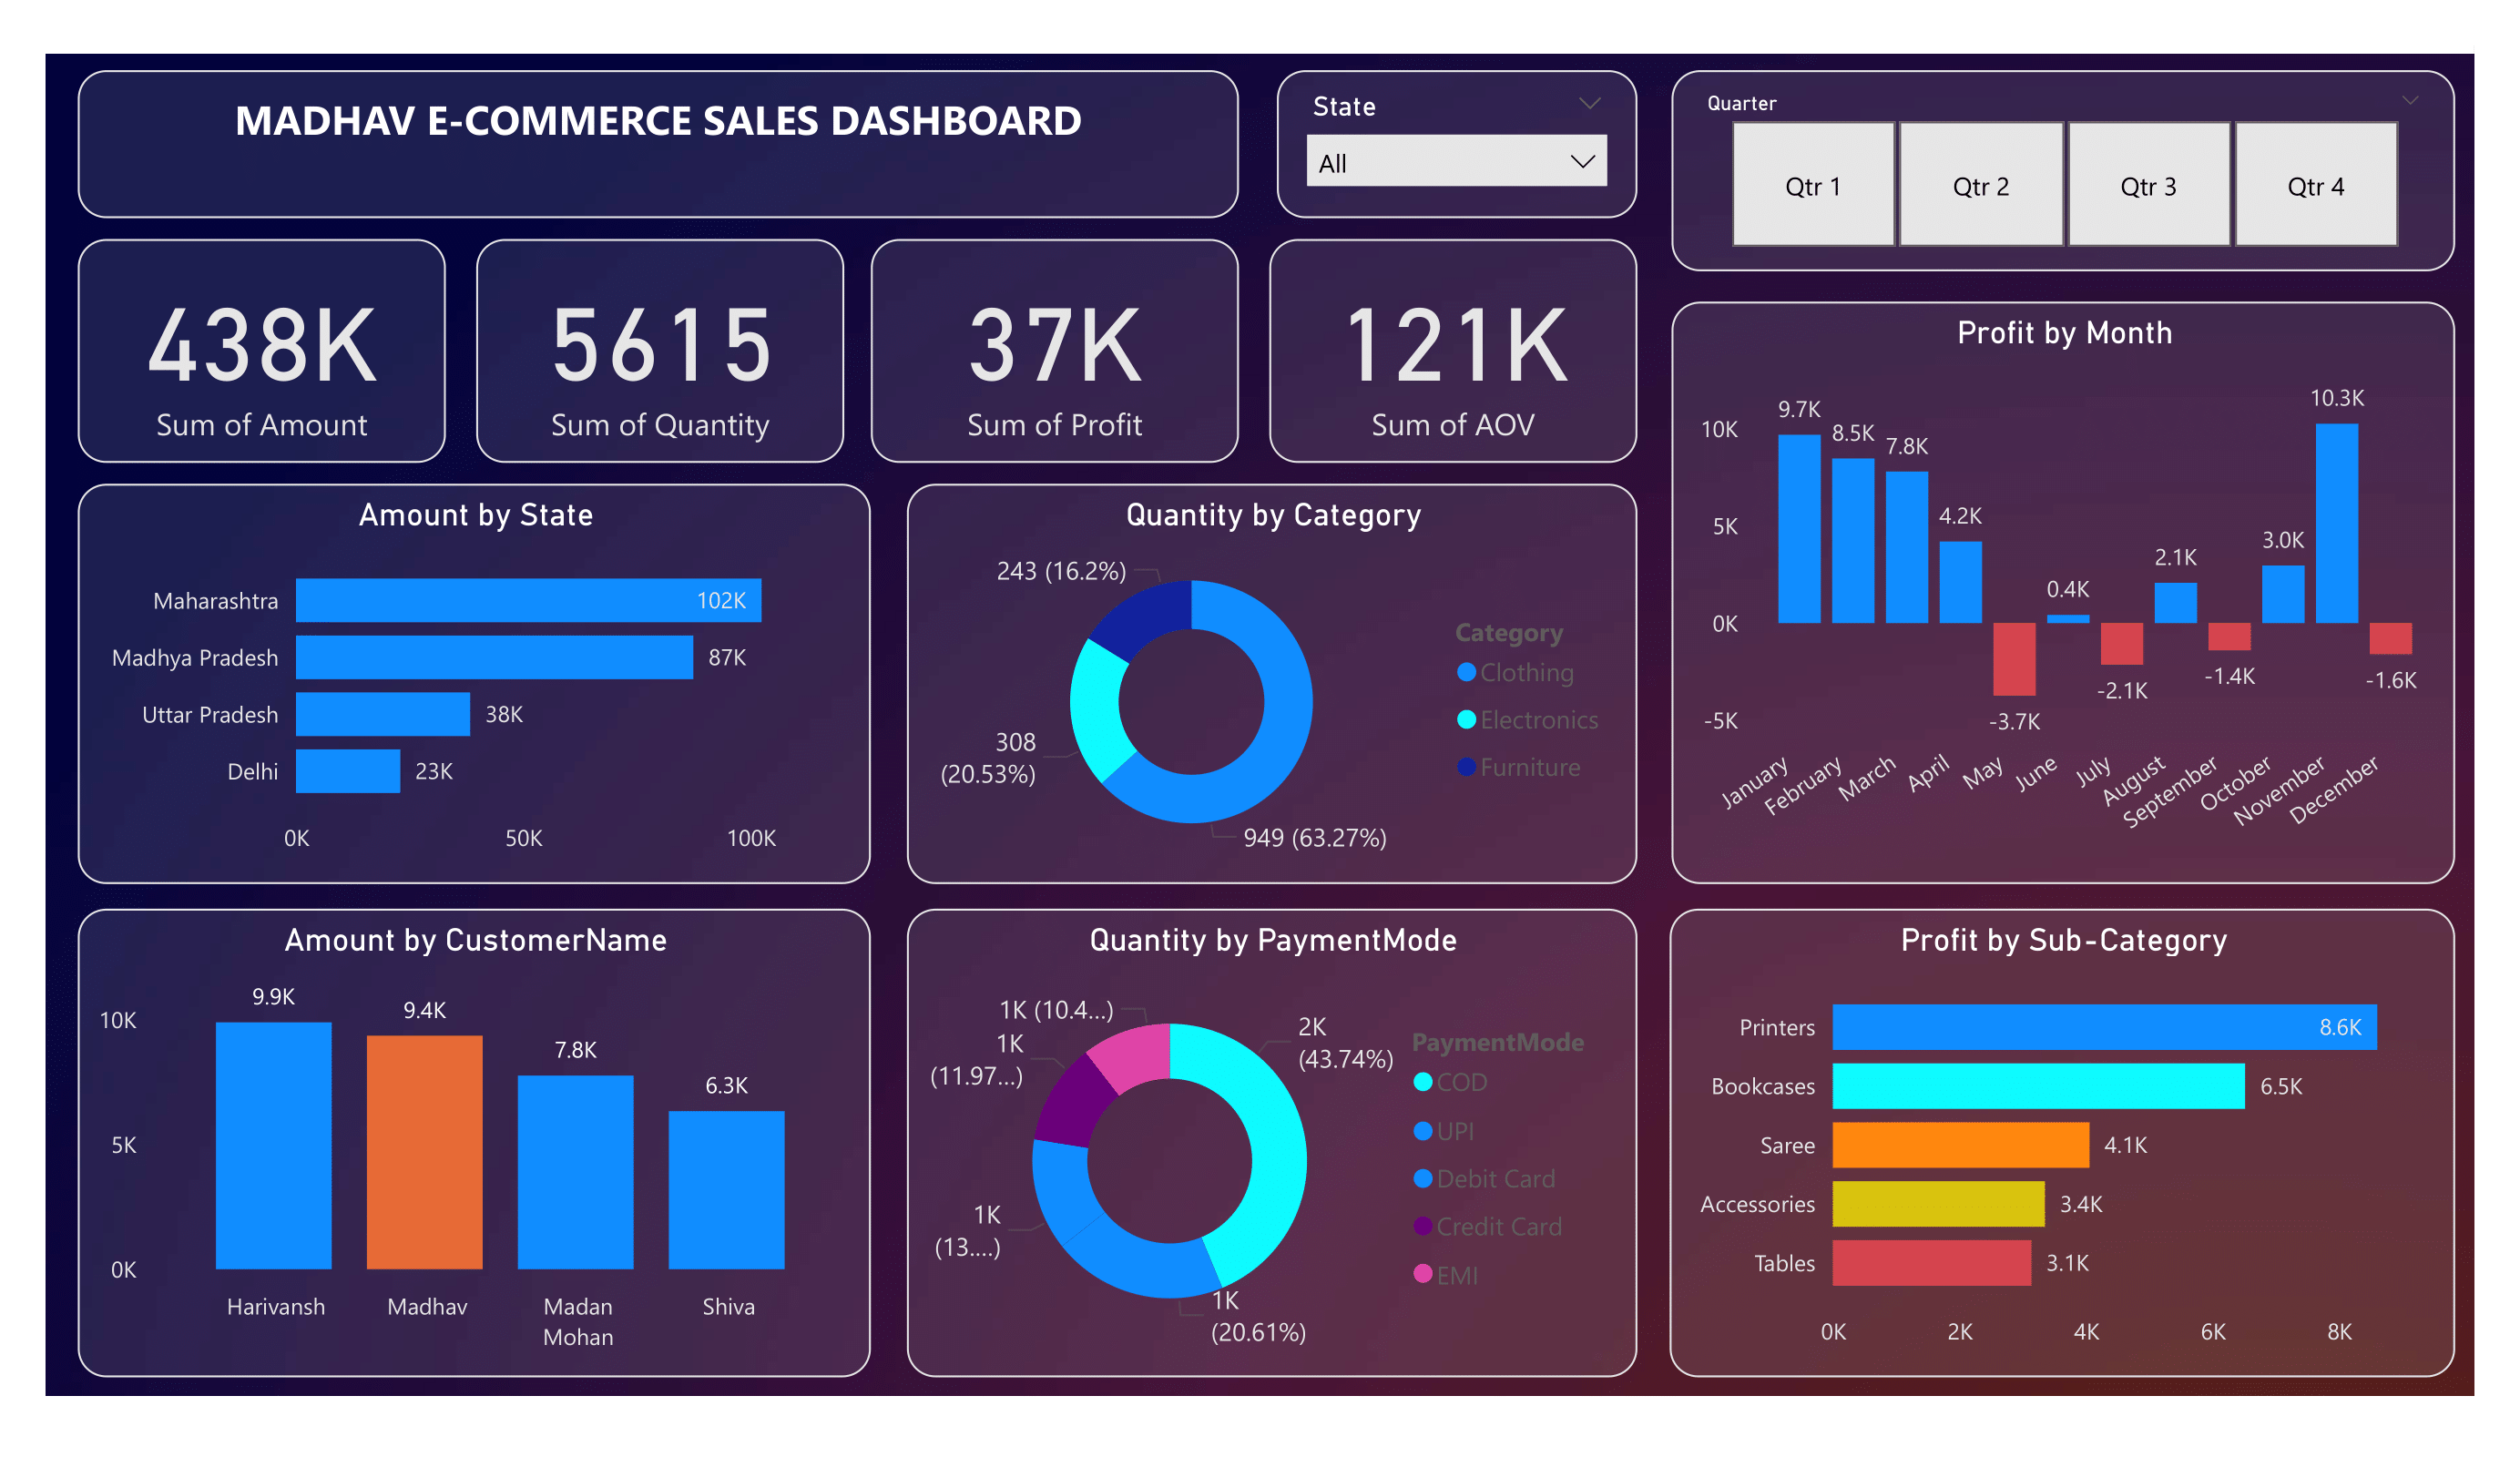

What the dashboard file says about the page in this screenshot:
{"tool":"powerbi","page":{"name":"Page 1","canvas":[1280,720],"ordinal":0},"visuals":[{"type":"textbox","box":[17,12.8,612.3,78],"z":0},{"type":"columnChart","title":"Profit by Month","fields":{"Category":["Orders.Order Date.Variation.Date Hierarchy.Month"],"Y":["Details.Profit"]},"box":[857.5,134.6,412.4,307.6],"z":1000},{"type":"barChart","title":"Profit by Sub-Category","fields":{"Category":["Details.Sub-Category"],"Y":["Details.Profit"]},"box":[856.1,455,413.9,246.6],"z":2000},{"type":"donutChart","title":"Quantity by Category","fields":{"Category":["Details.Category"],"Y":["Details.Quantity"]},"box":[453.5,231,385.5,211.2],"z":3000},{"type":"donutChart","title":"Quantity by PaymentMode","fields":{"Category":["Details.PaymentMode"],"Y":["Details.Quantity"]},"box":[453.5,455,385.5,246.6],"z":4000},{"type":"card","fields":{"Values":["Details.Amount"]},"box":[17,102,194.2,117.6],"z":5000},{"type":"card","fields":{"Values":["Details.Quantity"]},"box":[226.8,102,194.2,117.6],"z":6000},{"type":"card","fields":{"Values":["Details.Profit"]},"box":[435.1,102,194.2,117.6],"z":7000},{"type":"card","fields":{"Values":["Details.AOV"]},"box":[644.9,102,194.2,117.6],"z":8000},{"type":"barChart","title":"Amount by State","fields":{"Y":["Details.Amount"],"Category":["Orders.State"]},"box":[17,231,418.1,211.2],"z":9000},{"type":"columnChart","title":"Amount by CustomerName","fields":{"Category":["Orders.CustomerName"],"Y":["Details.Amount"]},"box":[17,455,418.1,246.6],"z":10000},{"type":"slicer","fields":{"Values":["Orders.State"]},"box":[649.1,12.8,189.9,78],"z":11000},{"type":"slicer","fields":{"Values":["Orders.Order Date.Variation.Date Hierarchy.Quarter"]},"box":[857.5,12.8,412.4,106.3],"z":12000}]}

Visuals, with their boxes on the page's 1280x720 design canvas (x1, y1, x2, y2). These are canvas units, not pixel positions in the 2520x1457 screenshot, which may show the page scaled, cropped or inside an application window:
textbox: detection(17, 13, 629, 91)
"Profit by Month" columnChart: detection(858, 135, 1270, 442)
"Profit by Sub-Category" barChart: detection(856, 455, 1270, 702)
"Quantity by Category" donutChart: detection(454, 231, 839, 442)
"Quantity by PaymentMode" donutChart: detection(454, 455, 839, 702)
card - Details.Amount: detection(17, 102, 211, 220)
card - Details.Quantity: detection(227, 102, 421, 220)
card - Details.Profit: detection(435, 102, 629, 220)
card - Details.AOV: detection(645, 102, 839, 220)
"Amount by State" barChart: detection(17, 231, 435, 442)
"Amount by CustomerName" columnChart: detection(17, 455, 435, 702)
slicer - Orders.State: detection(649, 13, 839, 91)
slicer - Orders.Order Date.Variation.Date Hierarchy.Quarter: detection(858, 13, 1270, 119)
